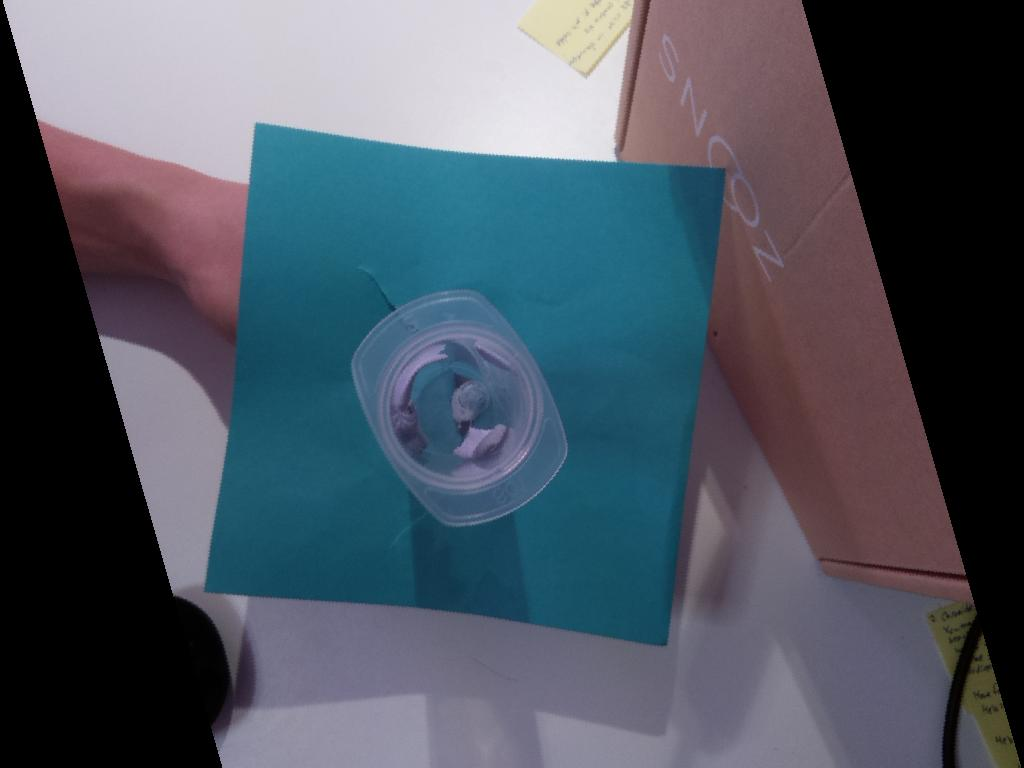dirty: (351, 288, 568, 527)
